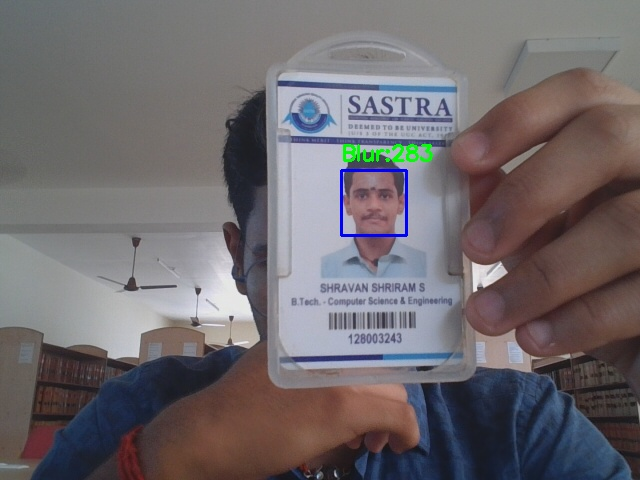fake: (341, 170, 406, 235)
